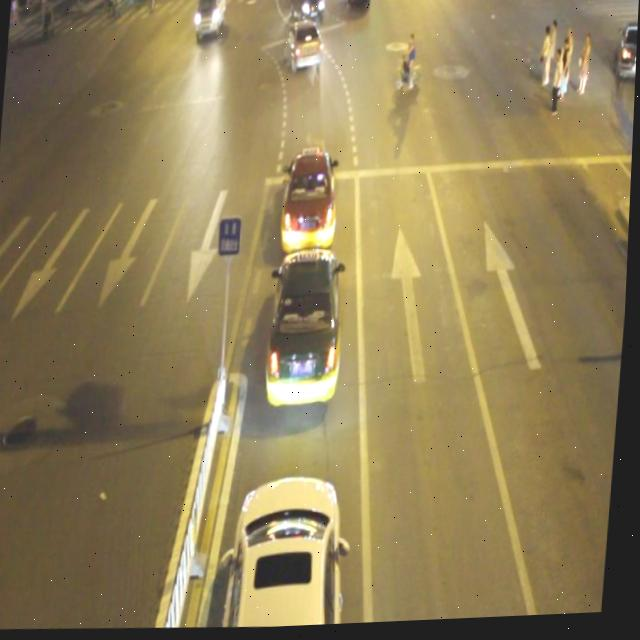car: (223, 465, 359, 631), (266, 246, 350, 409), (279, 150, 342, 260), (282, 23, 324, 77), (286, 0, 326, 30), (342, 0, 371, 10)
truck: (193, 0, 225, 41)
